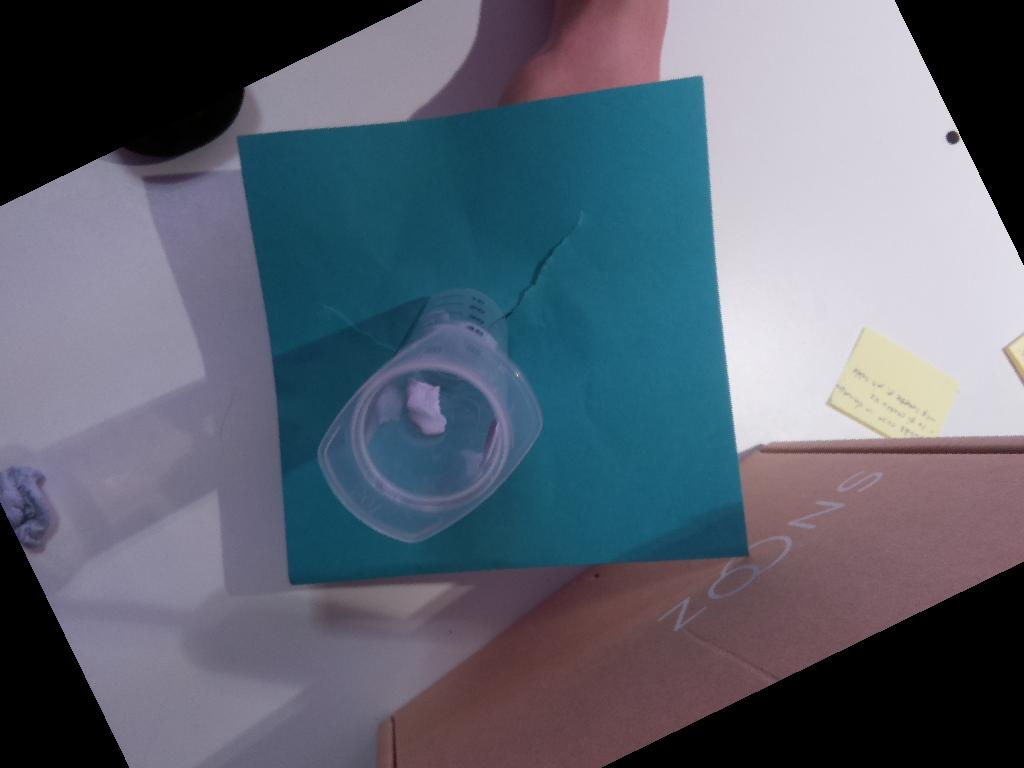dirty: (317, 326, 543, 544)
